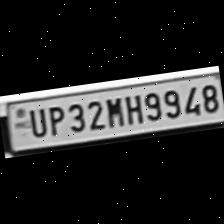2: (82, 98, 106, 132)
3: (64, 100, 87, 134)
4: (179, 83, 201, 117)
8: (197, 80, 221, 116)
9: (140, 88, 163, 122), (159, 86, 182, 120)
H: (120, 90, 144, 126)
M: (101, 93, 125, 129)
P: (42, 103, 66, 137)
U: (24, 105, 47, 138)
